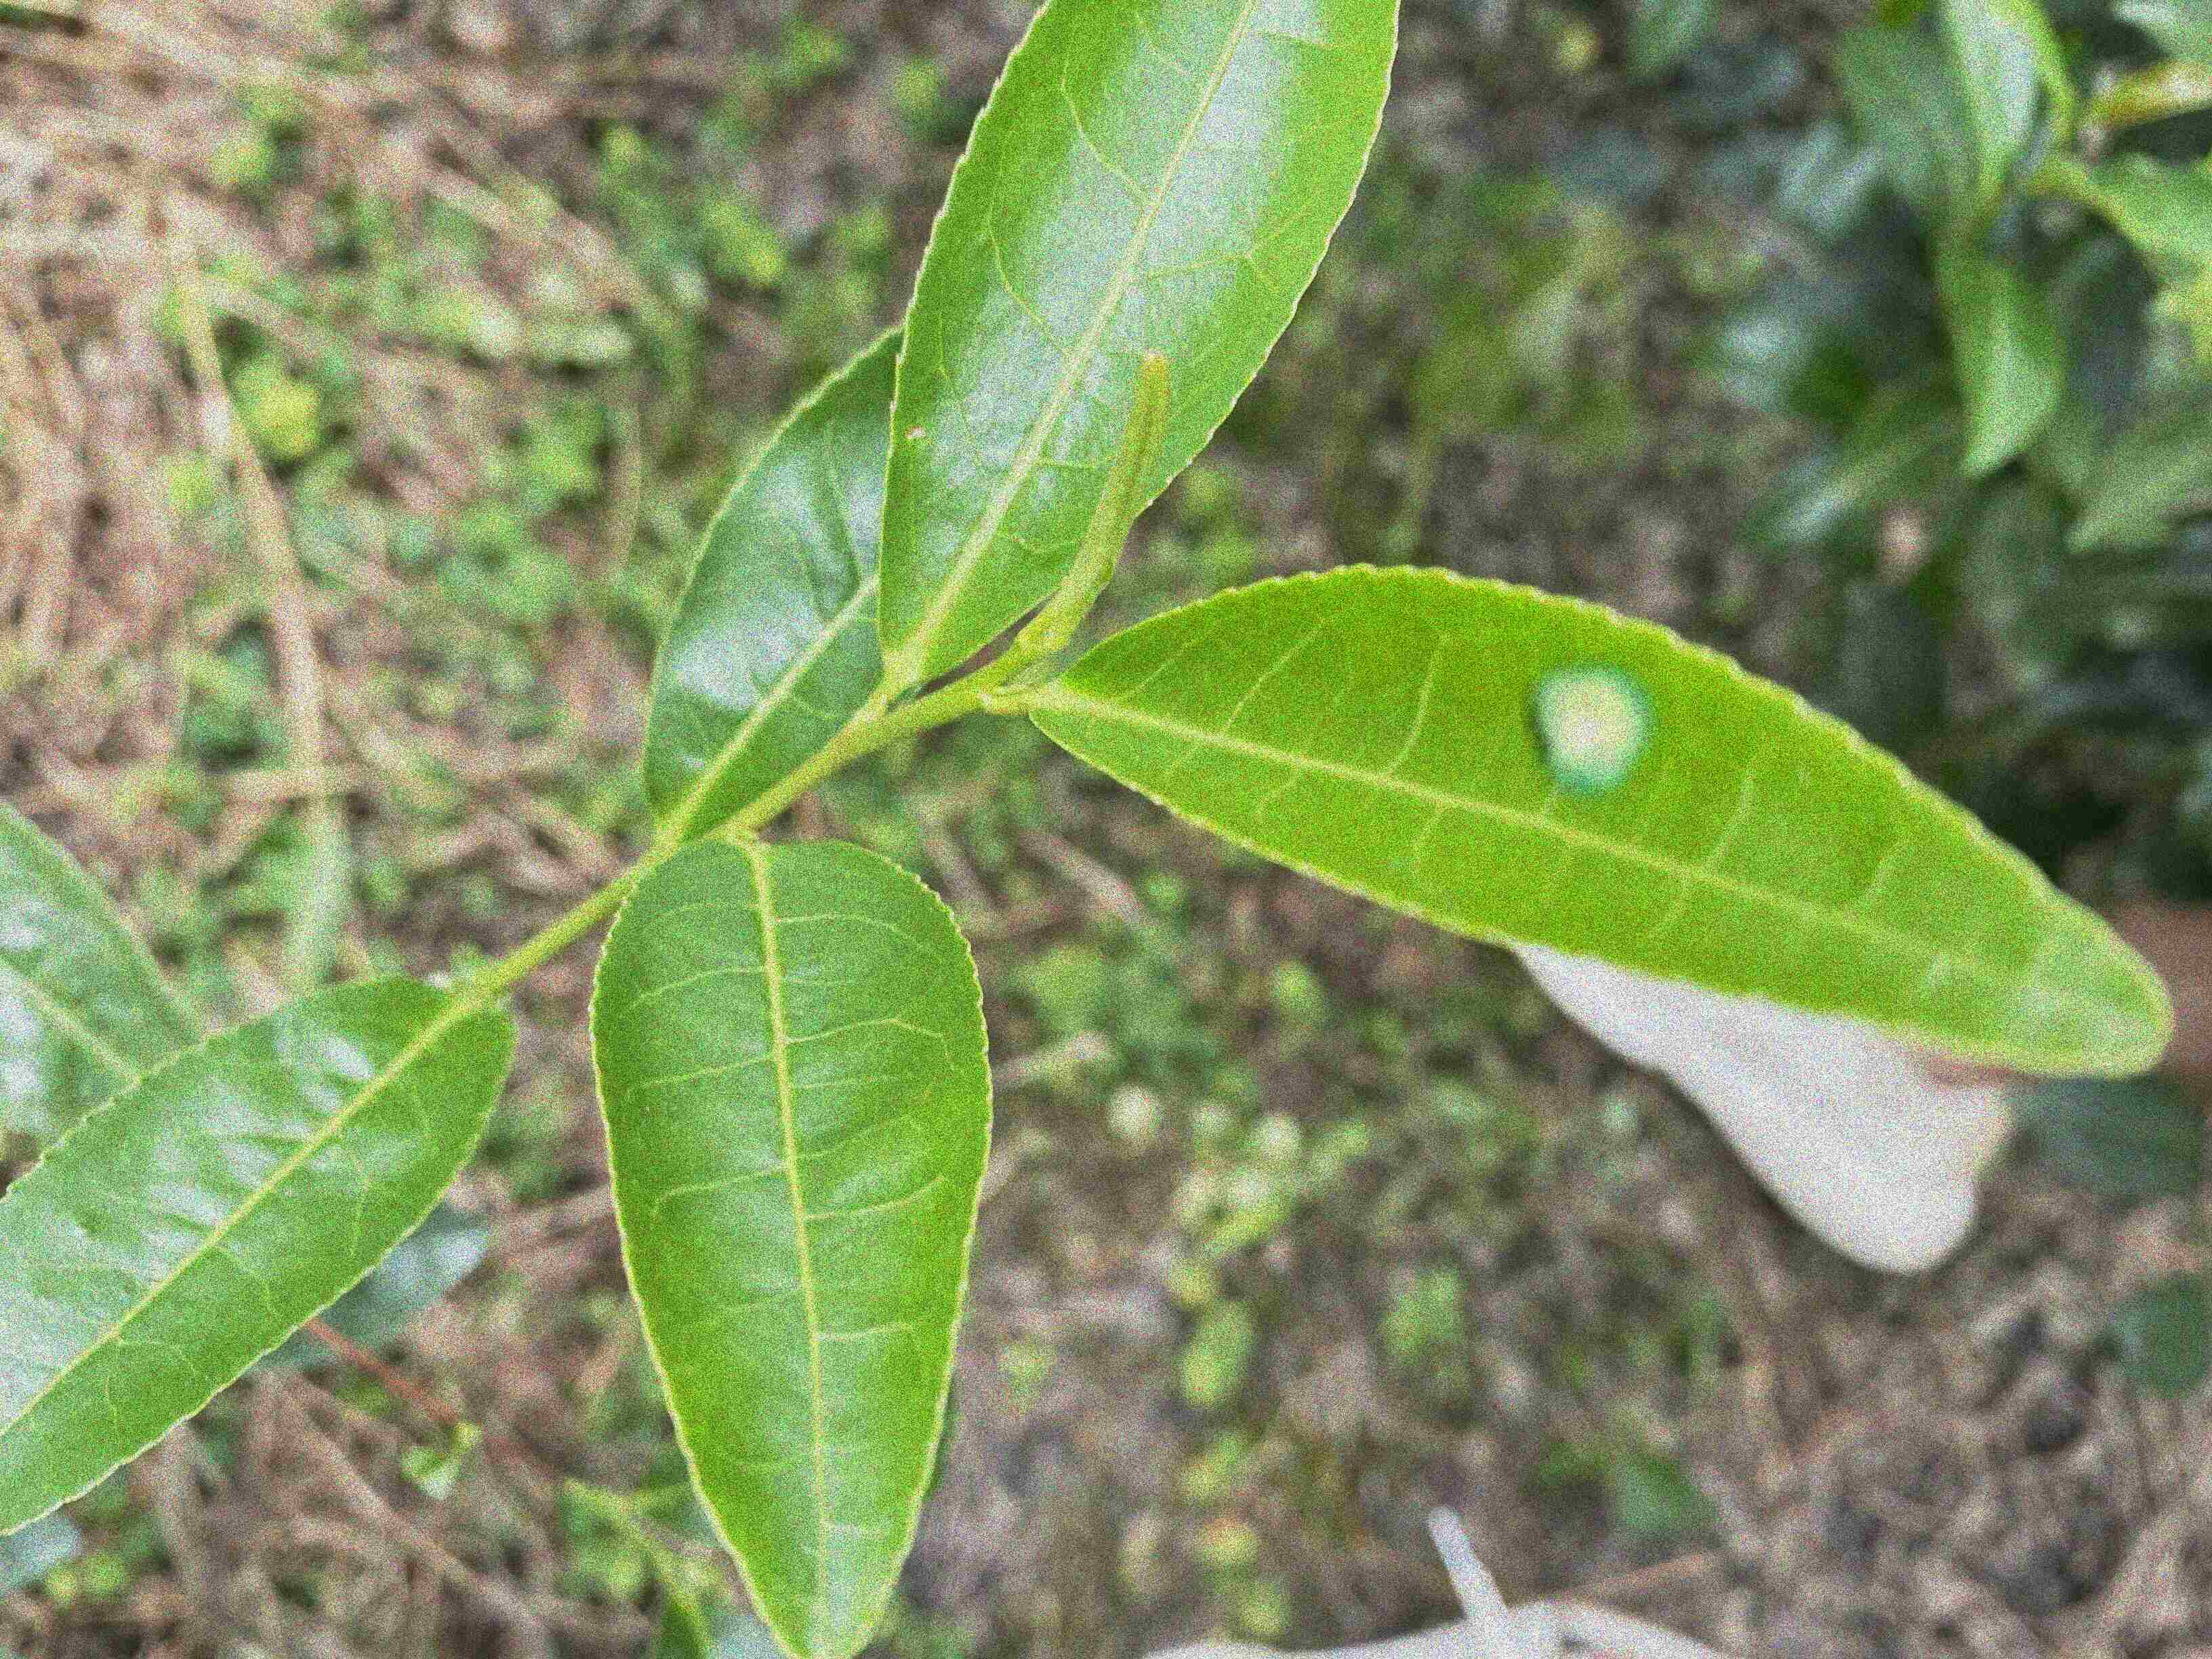chabing_low: (1042, 552, 2163, 1082)
healthy: (876, 0, 1400, 680), (587, 829, 993, 1657), (3, 972, 523, 1537), (639, 321, 904, 842)
